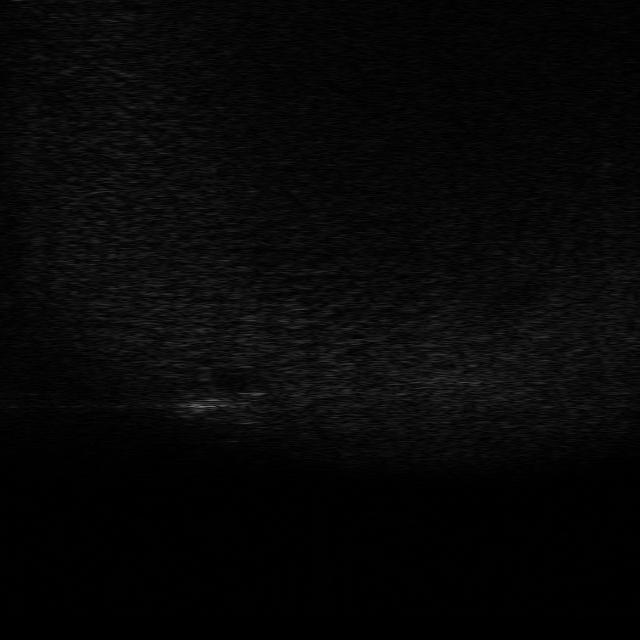plane: (161, 362, 265, 426)
